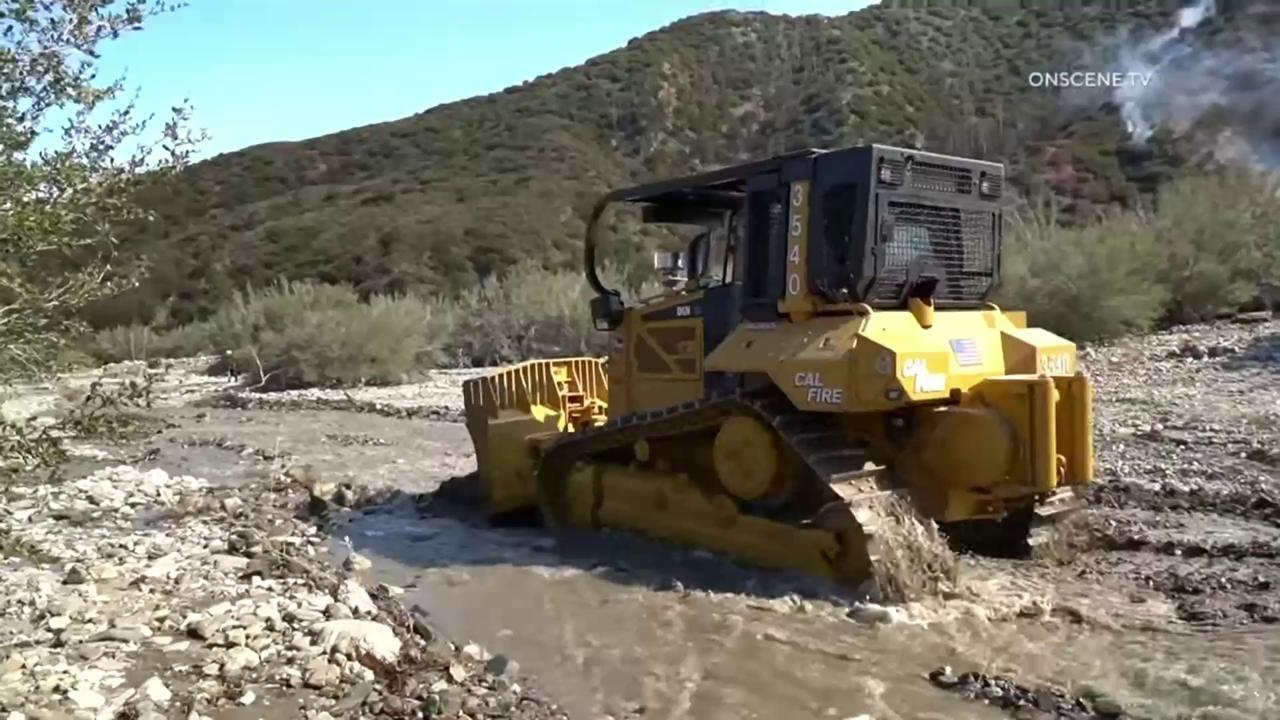smoke: (1060, 0, 1280, 182)
